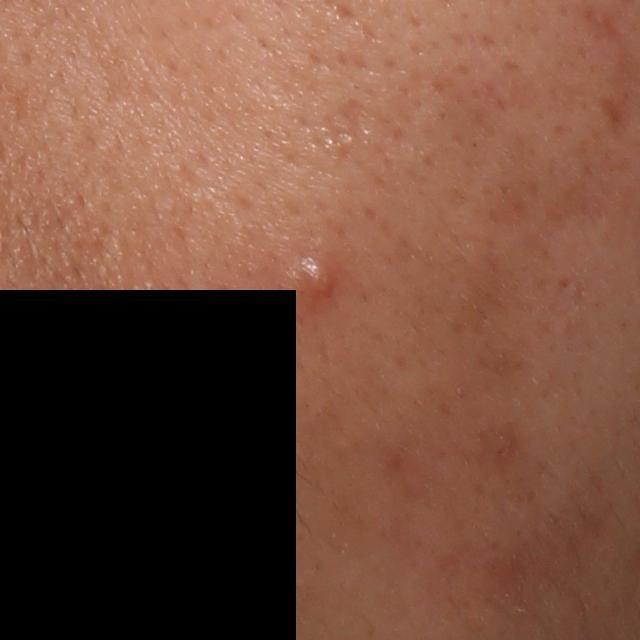atrophic_scar: (318, 98, 376, 161)
papule: (284, 249, 339, 302)
